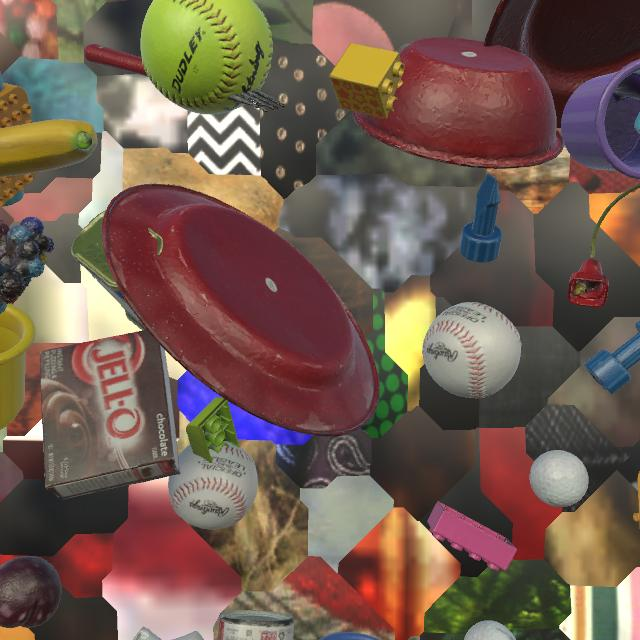ycb_005_tomato_soup_can: (217, 610, 294, 640)
ycb_008_pudding_box: (40, 330, 181, 500)
ycb_010_potted_meat_can: (71, 210, 163, 331)
ycb_011_banana: (0, 119, 98, 177)
ycb_018_plum: (0, 556, 62, 628)
